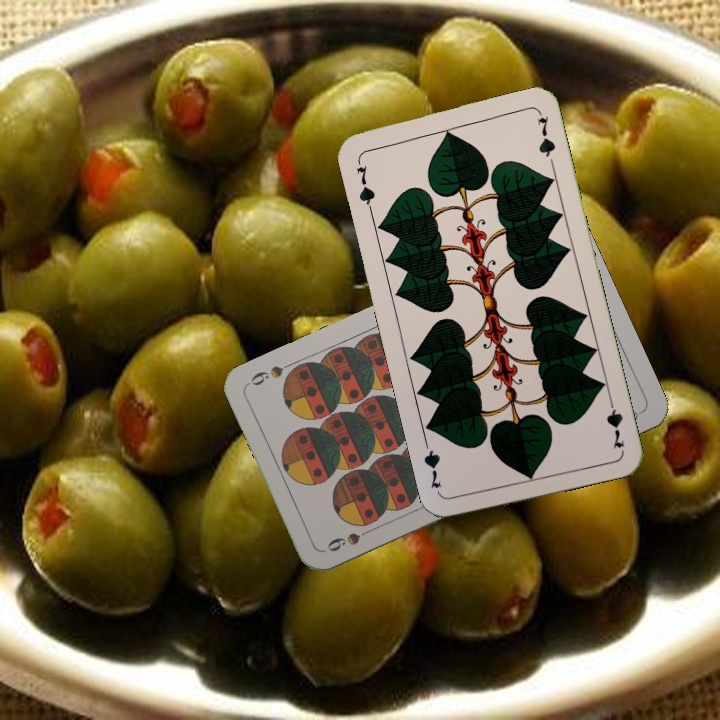G7: (352, 155, 378, 213), (602, 392, 627, 452)
S9: (323, 523, 378, 555)
